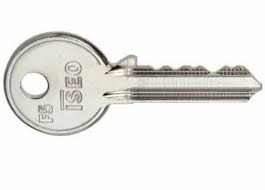kicharina: (2, 30, 263, 141)
